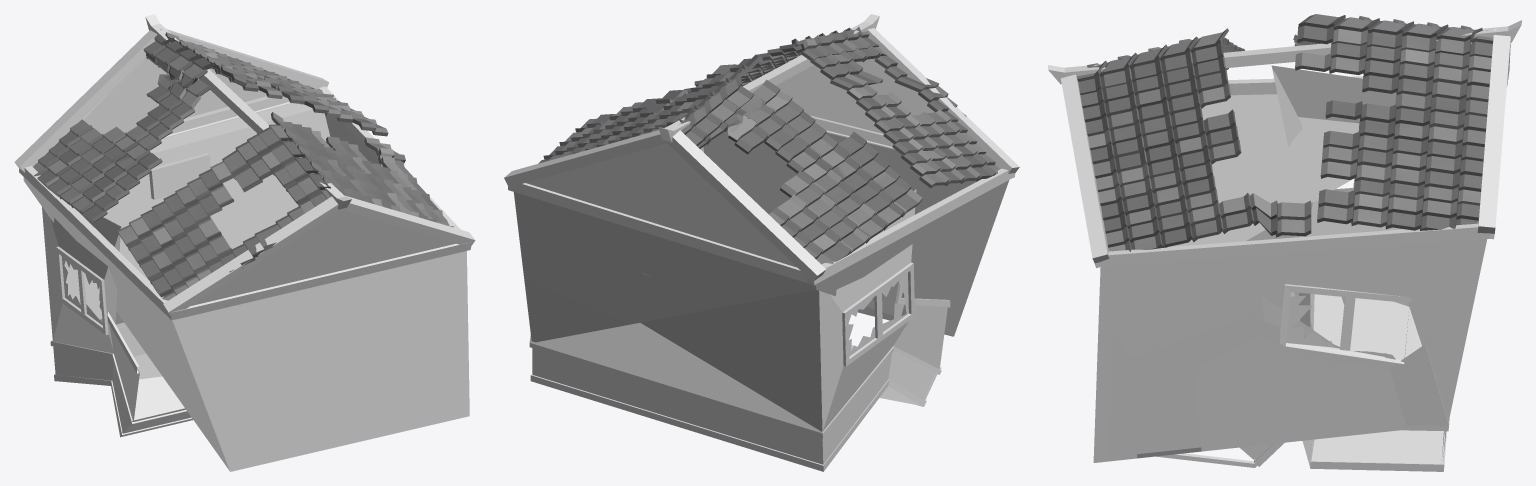
Rendered from Casa1DestruidaVer2.fbx.
3 views of the same model, side by side, from view 1: azimuth 30°, elevation 25°; view 2: azimuth 150°, elevation 25°; view 3: azimuth 270°, elevation 25° (orthographic). The views are drawn at different scales.
Parts seen in each view (by area): view 1: Casa1DestruidaVer2; view 2: Casa1DestruidaVer2; view 3: Casa1DestruidaVer2.
Part boxes in pixels (x1=…): Casa1DestruidaVer2: x1=14, y1=14, x2=475, y2=471; Casa1DestruidaVer2: x1=504, y1=14, x2=1019, y2=471; Casa1DestruidaVer2: x1=1048, y1=14, x2=1521, y2=471.
Size of the model in its own units: 1011 by 965 by 1089.
